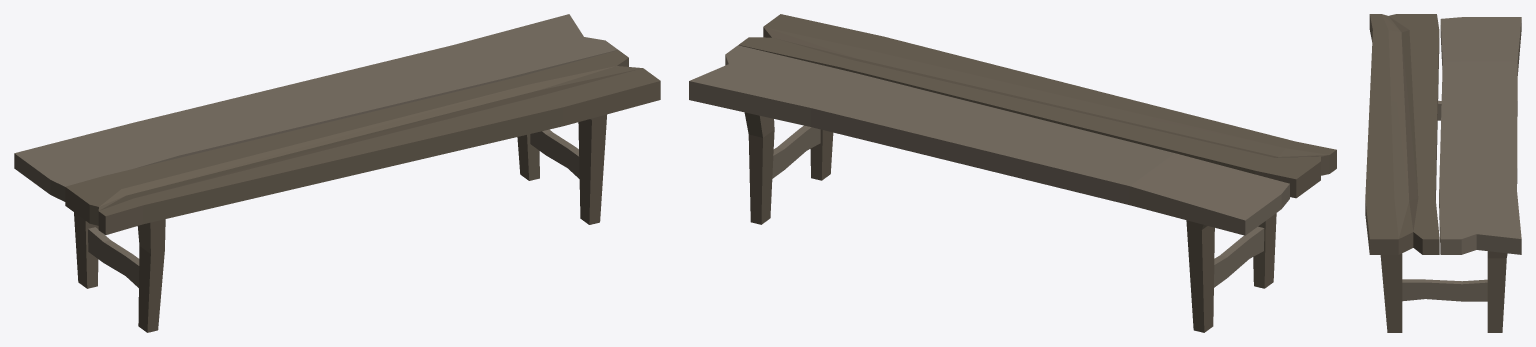
Rendered from bench.glb.
The picture shows the model from 3 angles, left to right: view 1: azimuth 30°, elevation 25°; view 2: azimuth 150°, elevation 25°; view 3: azimuth 270°, elevation 25°; orthographic projection. The views are drawn at different scales.
Visible parts, largest first — view 1: Bench; view 2: Bench; view 3: Bench.
Boxes of the visible parts, <box> form: Bench: <box>14,14,660,332</box>; Bench: <box>689,14,1336,332</box>; Bench: <box>1365,14,1521,332</box>.
Size of the model in its own units: 2.14 by 0.5056 by 0.628.
Materials: 1 (1 with a texture image).
